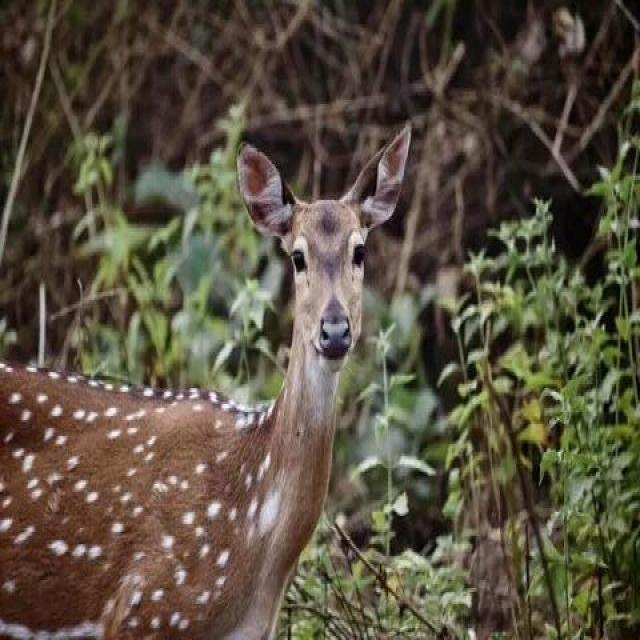deer: (139, 117, 443, 591)
